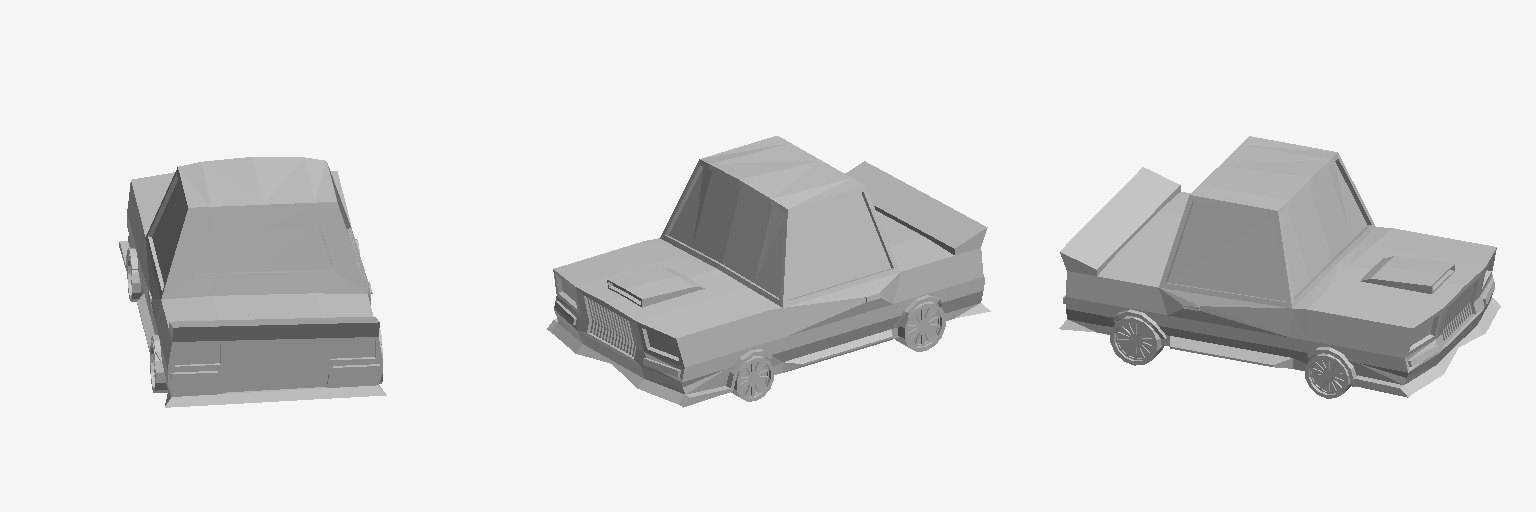
File: car.obj
3 views of the same model, side by side, from view 1: azimuth 30°, elevation 25°; view 2: azimuth 150°, elevation 25°; view 3: azimuth 270°, elevation 25° (orthographic).
Parts seen in each view (by area): view 1: body_ID56, backlight_ID75, wheel.1_ID84; view 2: body_ID56, wheel.1_ID84, lattice.1_ID29, wheel1.1_ID93, headlight_ID66; view 3: body_ID56, wheel.1_ID84, wheel1.1_ID93, lattice.1_ID29.
Boxes of the visible parts, <box> form: body_ID56: <box>119,157,386,407</box>; backlight_ID75: <box>175,340,374,364</box>; wheel.1_ID84: <box>150,341,382,392</box>; body_ID56: <box>547,136,990,407</box>; wheel.1_ID84: <box>895,301,945,351</box>; lattice.1_ID29: <box>587,298,635,356</box>; wheel1.1_ID93: <box>731,356,773,401</box>; headlight_ID66: <box>561,279,677,356</box>; body_ID56: <box>1059,136,1500,397</box>; wheel.1_ID84: <box>1110,316,1163,365</box>; wheel1.1_ID93: <box>1305,353,1351,398</box>; lattice.1_ID29: <box>1442,282,1474,341</box>.
Size of the model in its own units: 2.16 by 1.11 by 2.64.